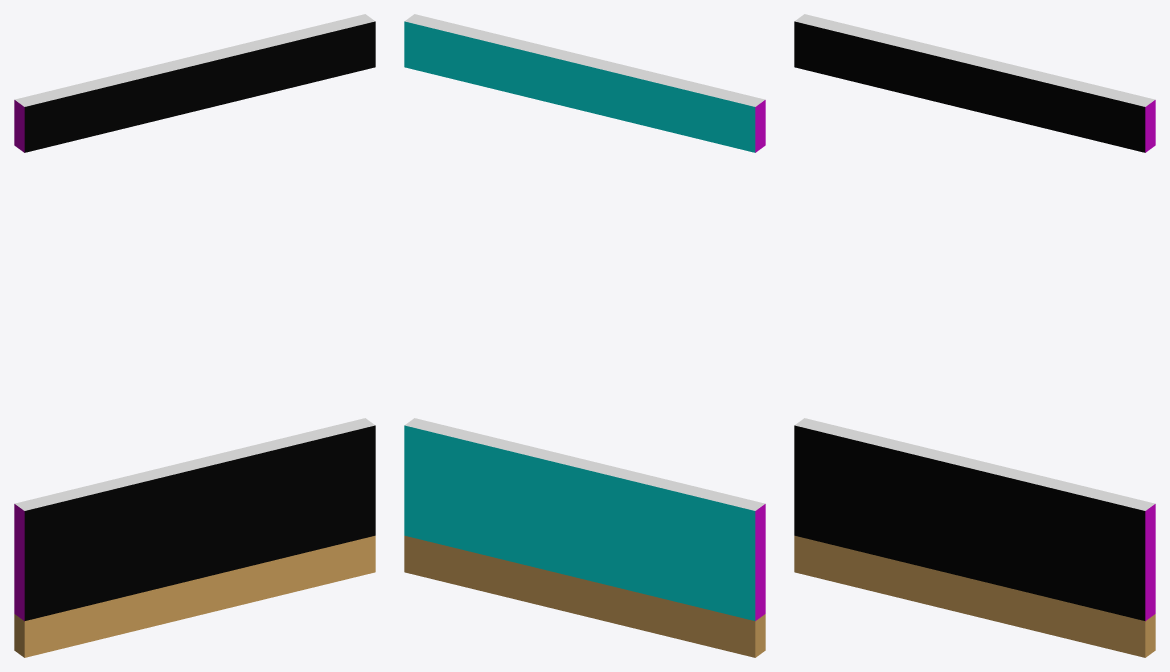
The model's file is wall_window.dae.
3 renders of one model, left to right at view 1: azimuth 30°, elevation 25°; view 2: azimuth 150°, elevation 25°; view 3: azimuth 330°, elevation 25°, orthographic.
Visible parts, largest first — view 1: Cube; view 2: Cube; view 3: Cube.
Part boxes in pixels (bbox=[...]): Cube: bbox=[14, 14, 375, 657]; Cube: bbox=[404, 14, 765, 657]; Cube: bbox=[794, 14, 1155, 657].
Bounding box in the file's own units: 2 × 0.1 × 3.
